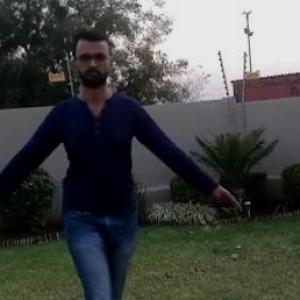land: (1, 48, 228, 299)
